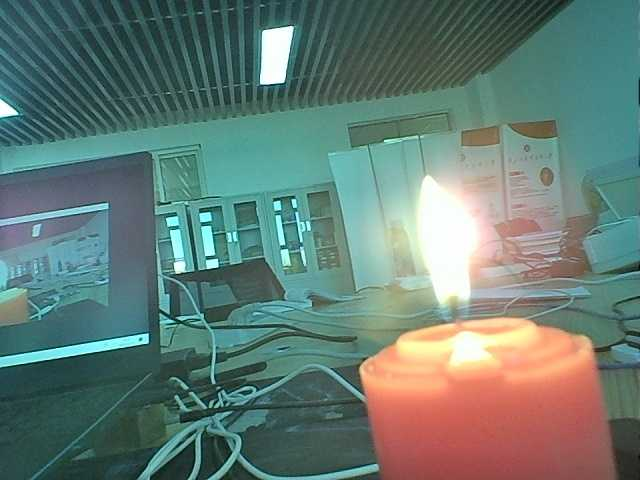candle: (350, 325, 634, 480)
fire: (393, 169, 506, 344)
